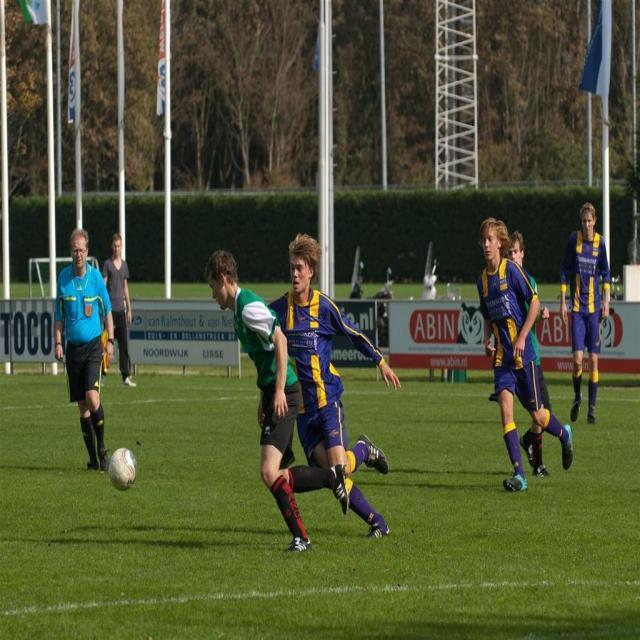football: (97, 444, 156, 499)
